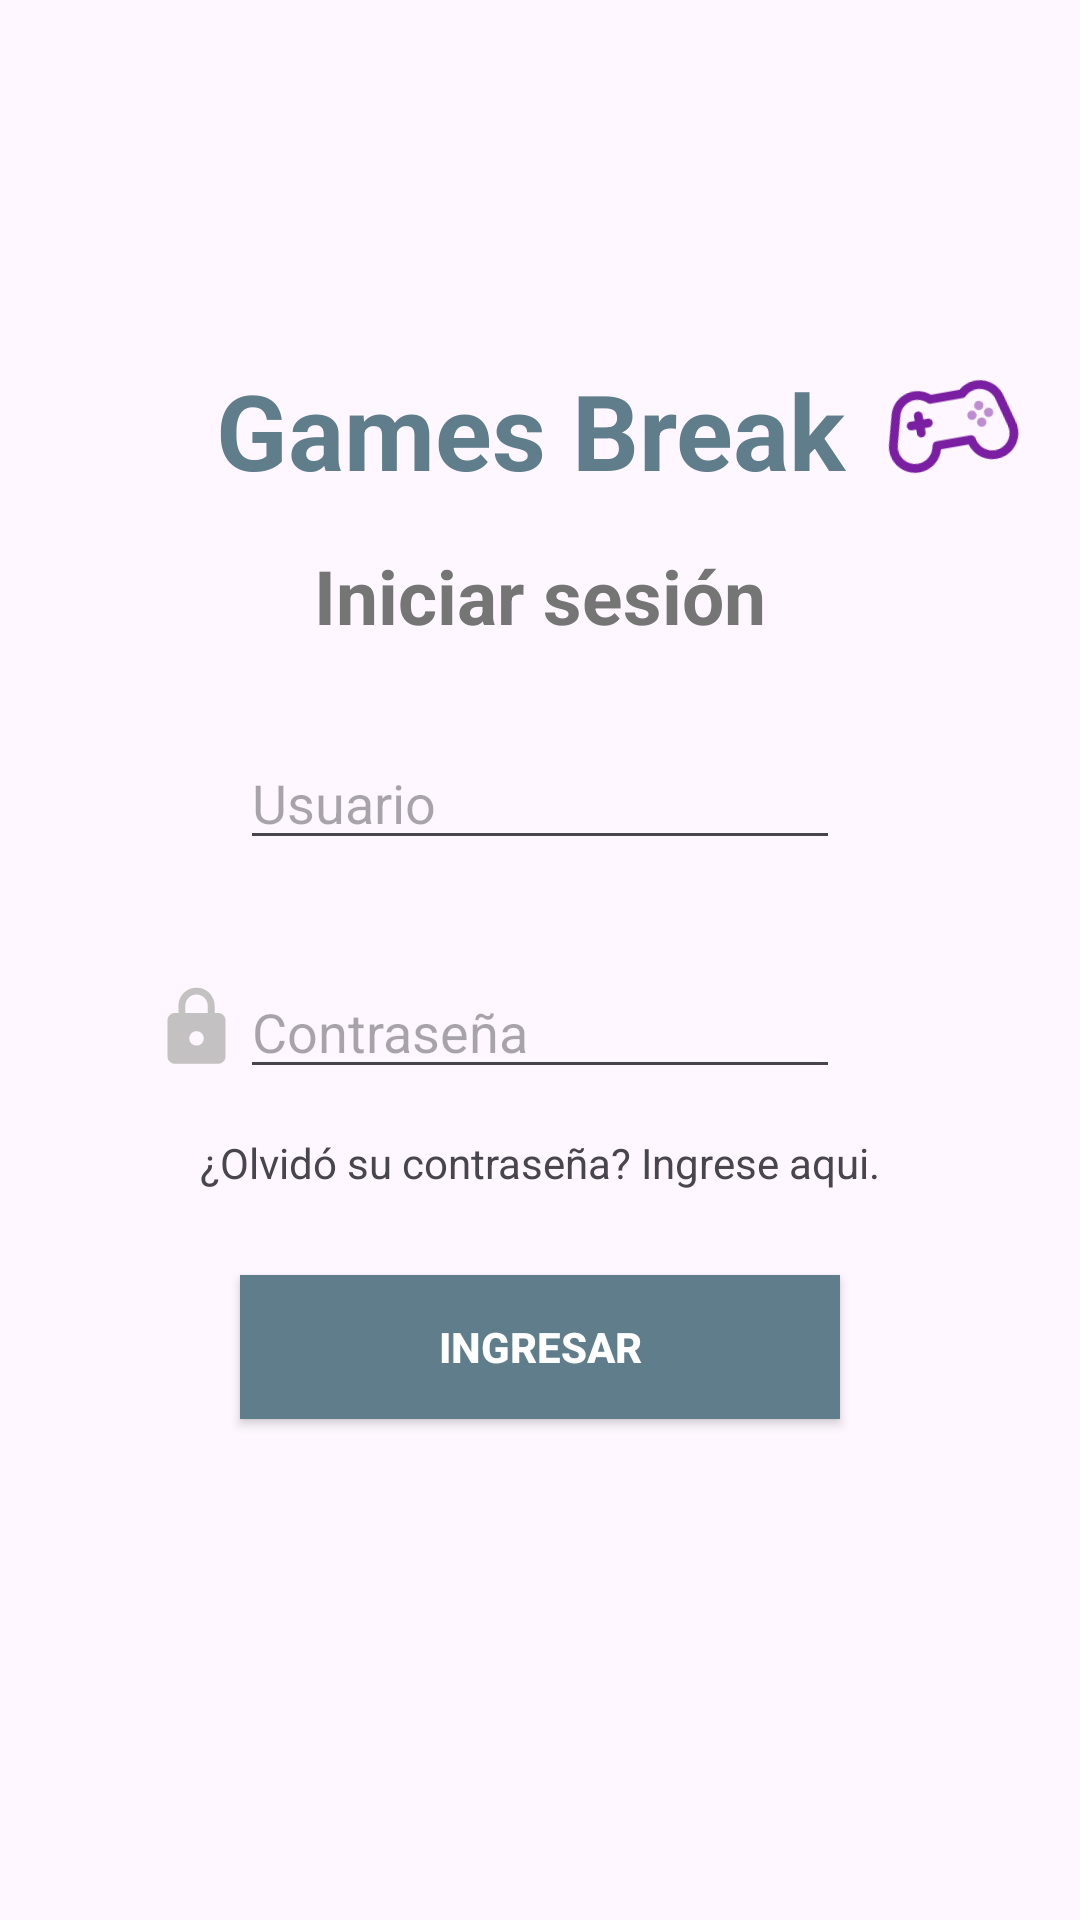

Where to tap for icons on this 1080x1920 app screen, as point (x, y):
imagen de candado: point (196, 1026)
